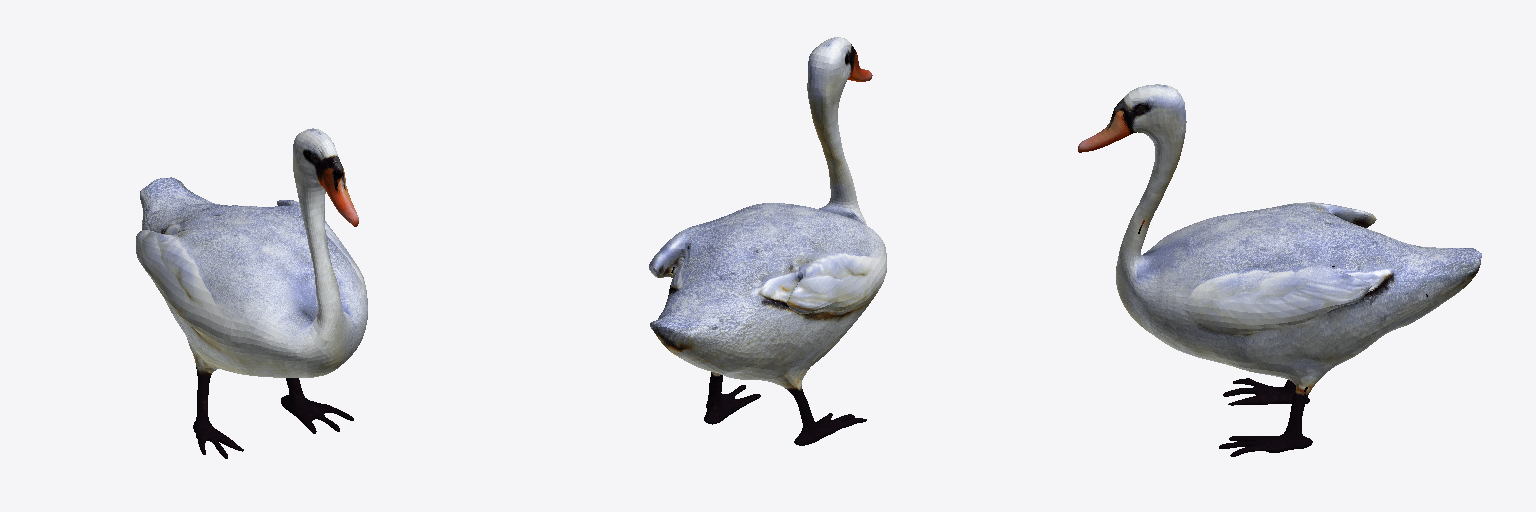
3 views of the same model, side by side, from view 1: azimuth 30°, elevation 25°; view 2: azimuth 150°, elevation 25°; view 3: azimuth 270°, elevation 25° (orthographic).
Parts seen in each view (by area): view 1: Swan_Quad; view 2: Swan_Quad; view 3: Swan_Quad.
Part boxes in pixels (x1,y1,x2,y2): Swan_Quad: (136,128,367,458); Swan_Quad: (649,37,886,445); Swan_Quad: (1078,84,1481,456).
Size of the model in its own units: 0.4661 by 0.8684 by 0.9344.
Materials: 1 (1 with a texture image).